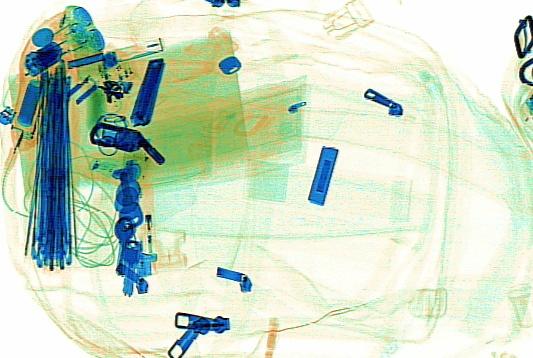lighter: (129, 168, 156, 277)
